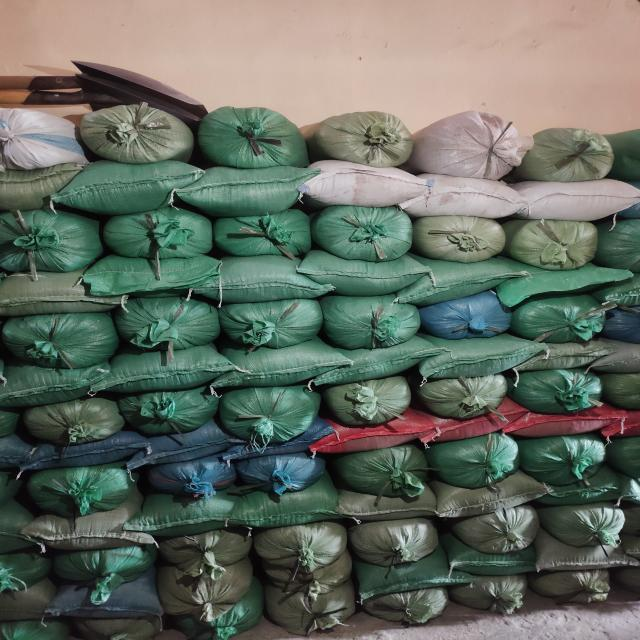Bistay sand: (88, 103, 192, 161), (207, 107, 310, 165), (430, 118, 518, 176), (1, 213, 95, 267), (318, 110, 411, 163), (14, 316, 114, 363), (5, 109, 83, 168), (223, 388, 314, 435), (28, 467, 117, 515), (534, 133, 619, 183), (196, 167, 302, 205), (310, 170, 416, 208), (422, 179, 528, 217), (517, 370, 610, 413), (78, 169, 183, 207), (535, 182, 640, 220), (108, 356, 236, 387), (1, 439, 138, 467), (334, 297, 415, 343), (241, 301, 322, 347), (129, 299, 210, 345), (104, 259, 214, 291), (199, 269, 309, 301), (308, 260, 418, 292), (411, 268, 521, 300), (530, 433, 606, 479), (244, 453, 320, 499), (32, 401, 123, 439), (349, 452, 424, 498), (236, 348, 343, 380), (126, 388, 205, 431), (441, 443, 516, 488), (427, 375, 507, 417), (333, 383, 413, 425), (4, 273, 94, 310), (167, 574, 256, 611), (273, 591, 362, 628), (550, 509, 636, 547), (453, 513, 539, 551), (357, 524, 443, 562), (262, 529, 348, 567), (134, 428, 235, 459), (227, 216, 303, 255), (114, 216, 190, 255), (424, 216, 499, 255), (323, 214, 399, 252), (34, 520, 149, 545), (131, 505, 246, 530), (516, 267, 626, 293), (525, 223, 600, 261), (528, 301, 606, 337), (436, 296, 514, 332), (335, 346, 420, 379), (433, 346, 532, 374), (54, 587, 158, 613), (222, 432, 328, 457), (1, 370, 86, 401), (172, 536, 244, 572), (442, 490, 548, 514), (239, 496, 340, 521), (155, 459, 227, 494), (66, 548, 146, 578), (322, 426, 421, 450), (415, 416, 514, 440), (513, 414, 612, 438), (458, 580, 536, 610), (543, 573, 621, 603), (366, 566, 471, 588), (368, 595, 446, 624), (444, 551, 537, 575), (547, 551, 640, 575), (200, 604, 264, 638), (528, 342, 604, 370), (551, 485, 640, 508), (344, 499, 431, 522), (1, 172, 55, 207), (2, 588, 50, 621), (1, 555, 47, 589), (606, 222, 639, 263), (1, 512, 32, 546), (612, 341, 640, 377), (610, 374, 640, 407), (611, 439, 640, 472), (612, 312, 640, 340)
